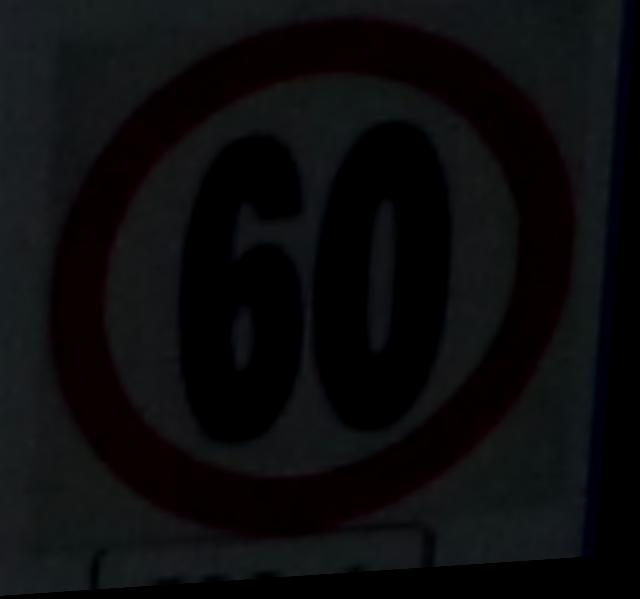limit60: (27, 0, 609, 561)
